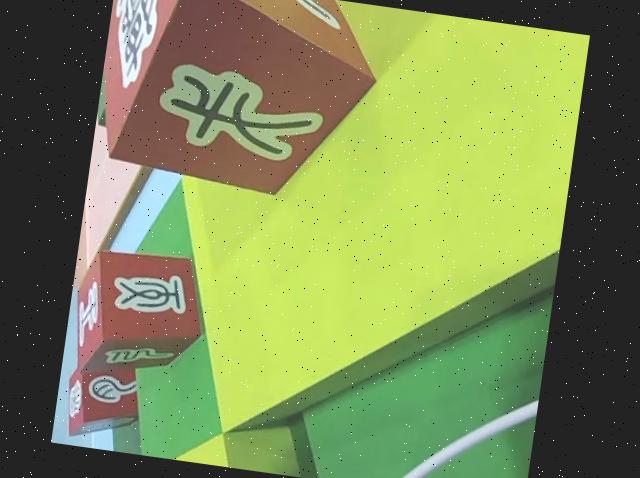R2 Fake: (88, 0, 392, 212), (62, 239, 216, 385), (57, 359, 149, 449)
